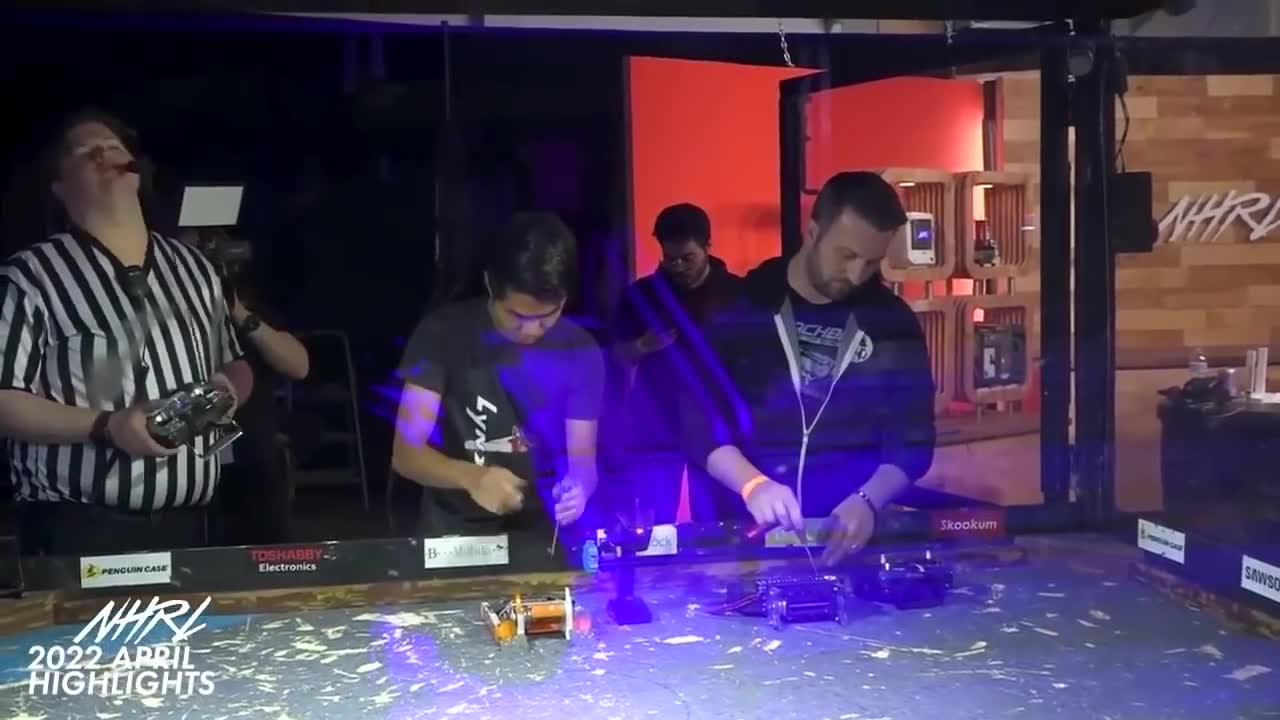combatbot: (732, 571, 861, 635), (480, 587, 584, 651)
